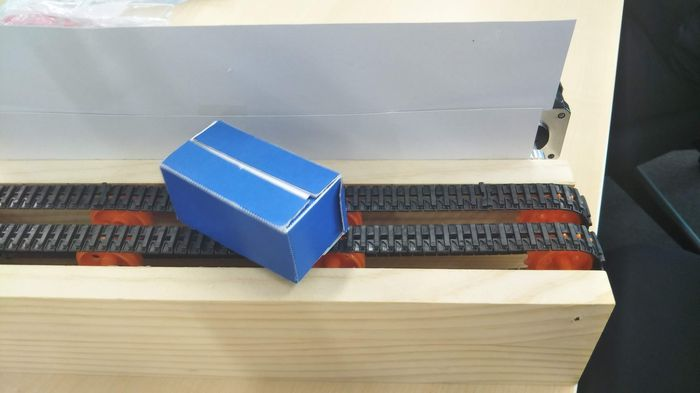box3: (154, 115, 350, 285)
